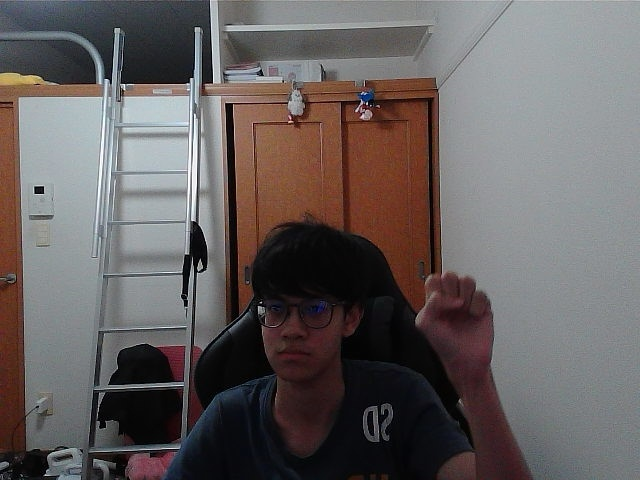closed_palm: (426, 278, 481, 358)
